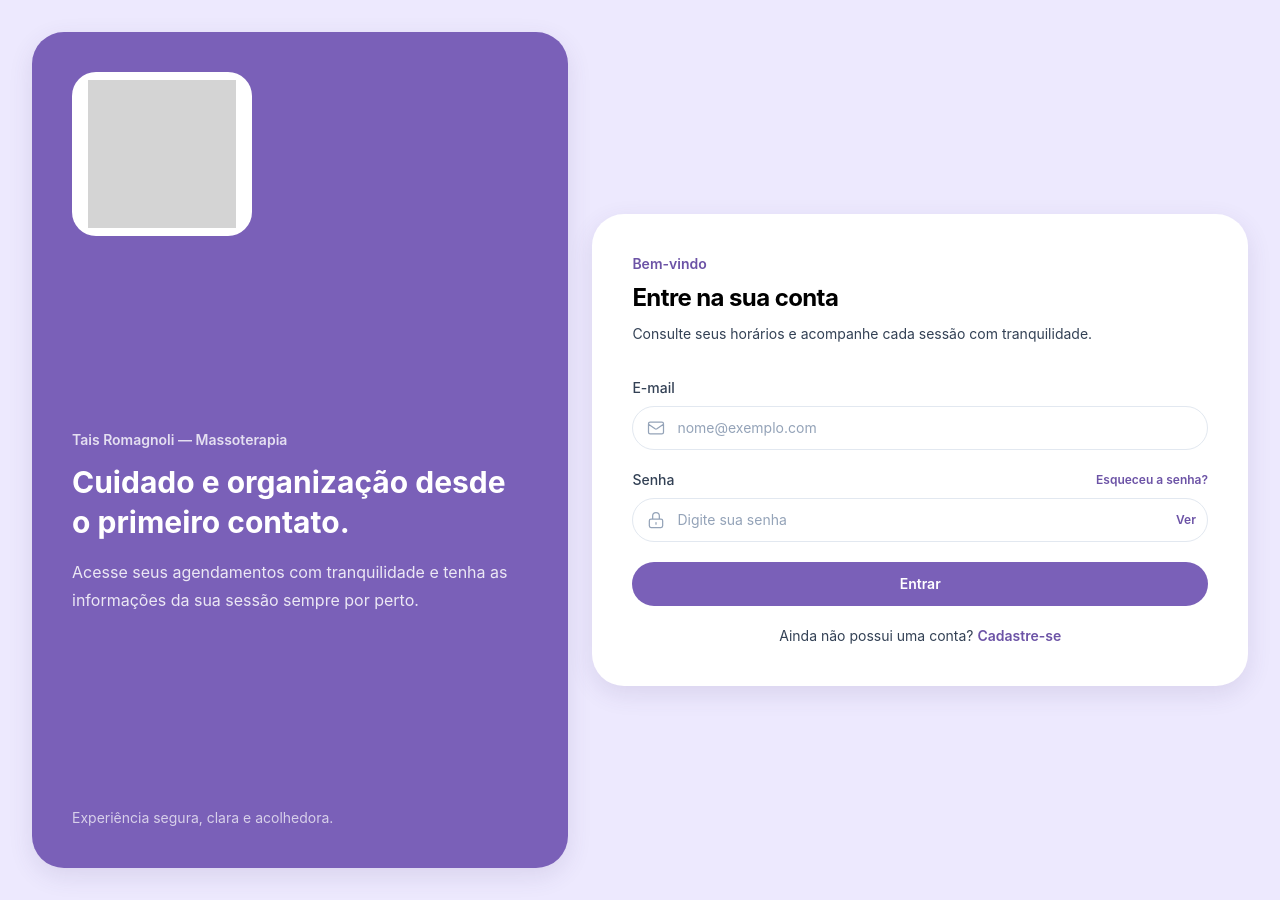
it: LoginPage › exibe erros de validação ao tentar logar com formulário vazio
Click the button "Entrar": (920, 584) [632, 562, 1208, 606]
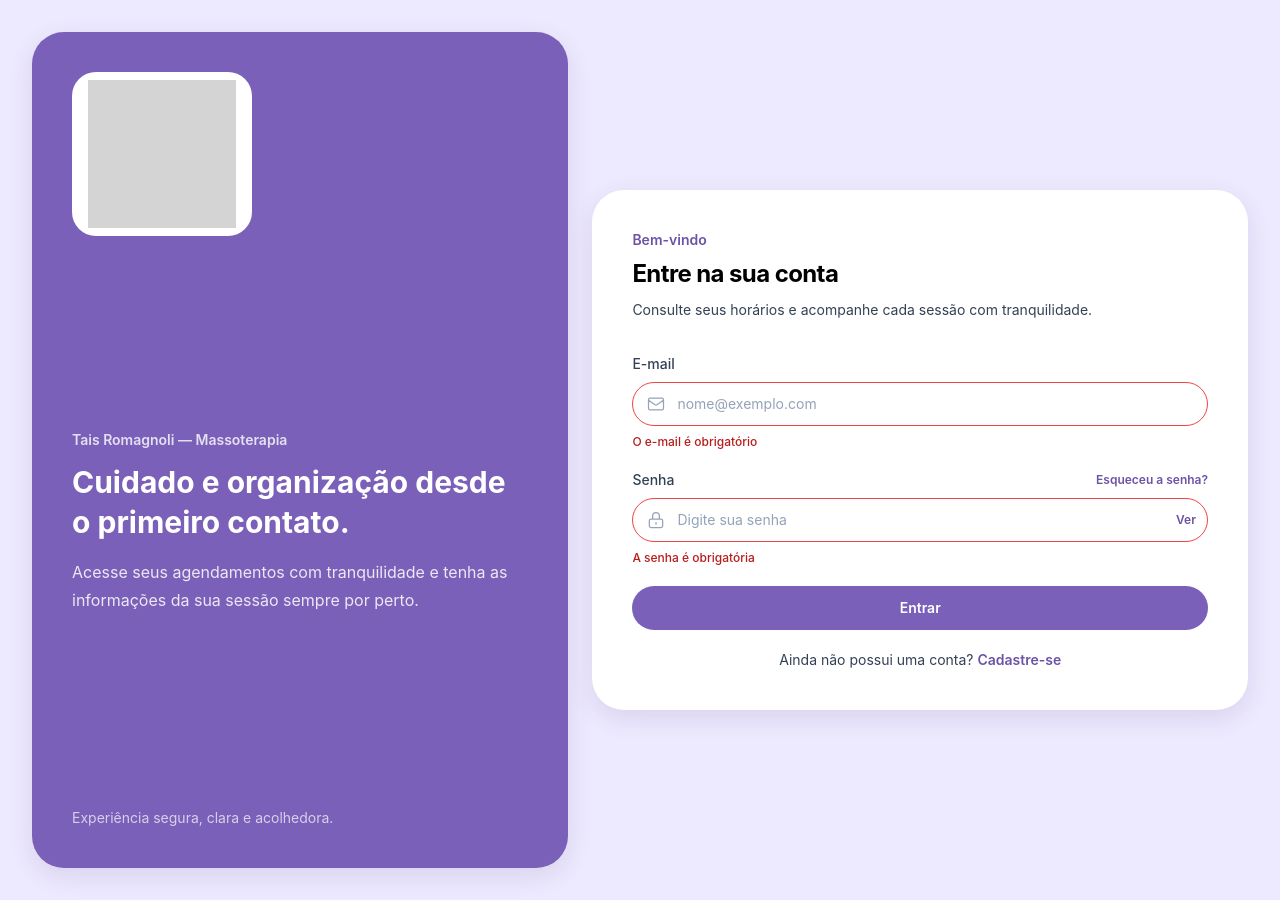
Now the text "O e-mail é obrigatório" is shown, box [632, 434, 757, 449]
Now the text "A senha é obrigatória" is shown, box [632, 550, 755, 565]
